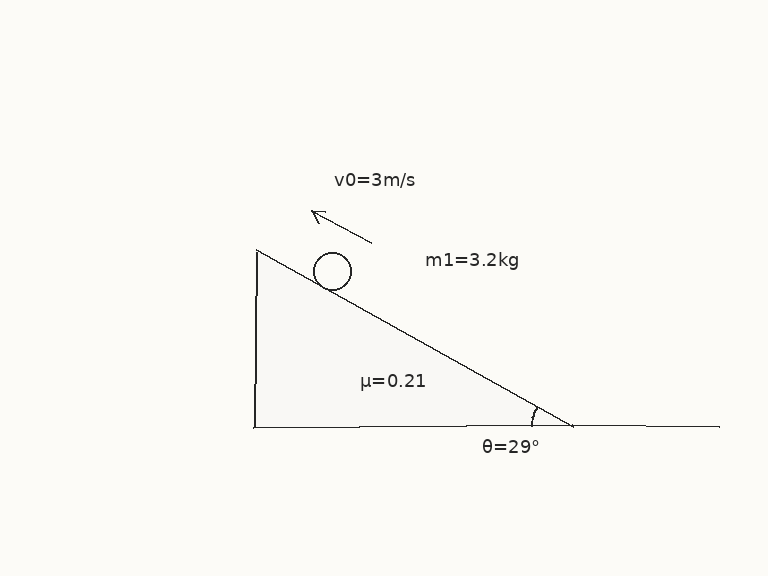ball: (311, 250, 353, 292)
ramp: (253, 249, 574, 428)
